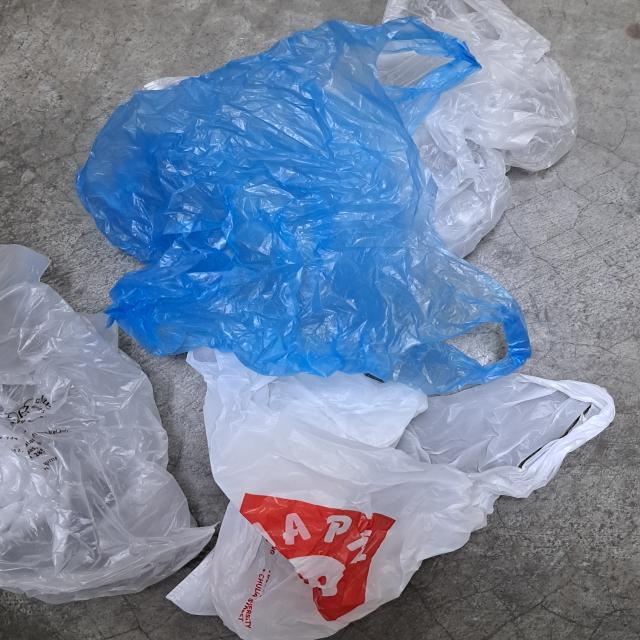plastic bag: (78, 17, 532, 394), (166, 343, 618, 640), (0, 244, 219, 601), (373, 0, 576, 259)
